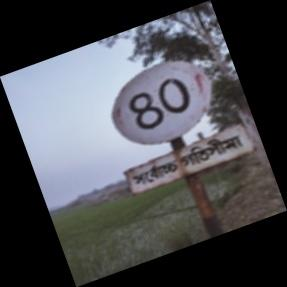Speed-limit: (110, 58, 252, 195)
